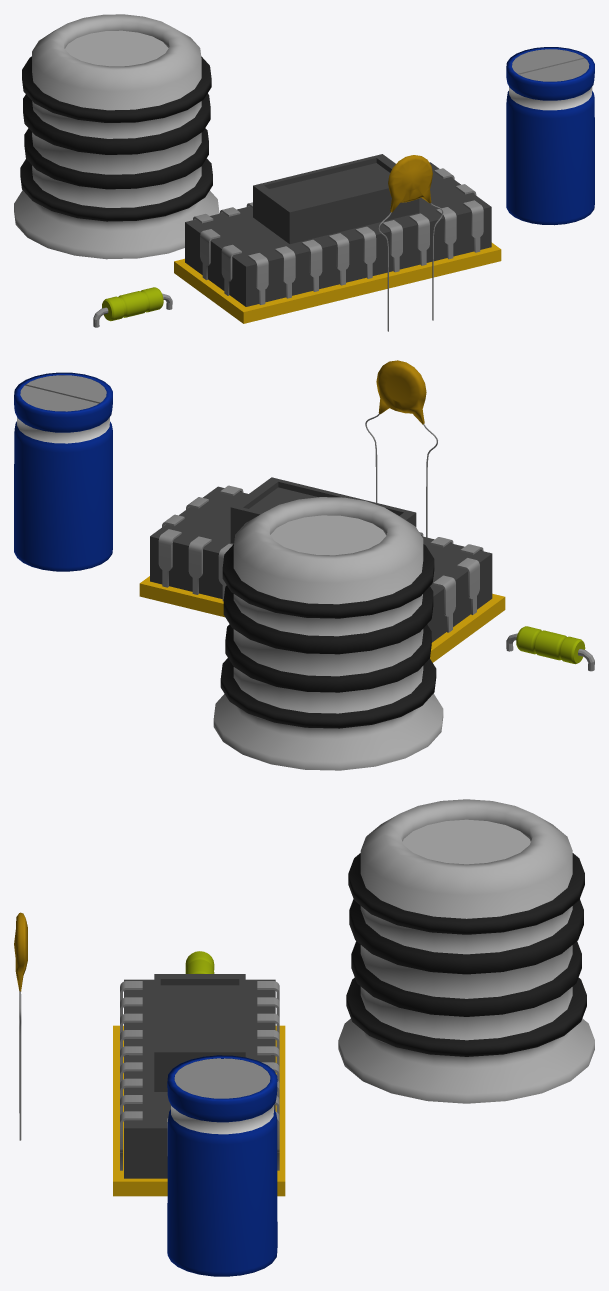
Rendered from Electronics3.fbx.
3 views of the same model, one above another, from view 1: azimuth 30°, elevation 25°; view 2: azimuth 150°, elevation 25°; view 3: azimuth 270°, elevation 25° (orthographic). The views are drawn at different scales.
Visible parts, largest first — view 1: CylinderHouse, CylinderHouse2, pCube2, pCube4, pCube5, Three, Resister1, polySurface4, polySurface5, polySurface3, polySurface9, polySurface6 (+6 smaller); view 2: CylinderHouse, CylinderHouse2, pCube2, pCube5, pCube4, Three, Resister1, polySurface17, polySurface18, polySurface20, polySurface19; view 3: CylinderHouse, CylinderHouse2, pCube4, pCube2, pCube5, Three.
Boxes of the visible parts, x1,y1,x2,y2 form: CylinderHouse: [14, 14, 219, 259]; CylinderHouse2: [506, 47, 594, 225]; pCube2: [185, 162, 491, 306]; pCube4: [253, 154, 419, 243]; pCube5: [174, 242, 501, 323]; Three: [388, 155, 432, 212]; Resister1: [93, 287, 172, 327]; polySurface4: [328, 233, 349, 285]; polySurface5: [355, 226, 376, 278]; polySurface3: [302, 239, 322, 291]; polySurface9: [463, 200, 483, 252]; polySurface6: [382, 220, 402, 272]; CylinderHouse: [213, 497, 443, 770]; CylinderHouse2: [14, 372, 112, 571]; pCube2: [150, 486, 492, 642]; pCube5: [139, 576, 505, 662]; pCube4: [230, 477, 416, 543]; Three: [376, 360, 426, 424]; Resister1: [506, 626, 594, 671]; polySurface17: [188, 536, 211, 594]; polySurface18: [158, 529, 181, 587]; polySurface20: [457, 558, 479, 614]; polySurface19: [433, 575, 455, 632]; CylinderHouse: [338, 799, 594, 1103]; CylinderHouse2: [167, 1055, 277, 1276]; pCube4: [154, 974, 245, 1091]; pCube2: [124, 979, 275, 1178]; pCube5: [113, 1025, 285, 1196]; Three: [14, 912, 27, 991].
Bounding box in the file's own units: 6.83 × 2.32 × 5.48.
